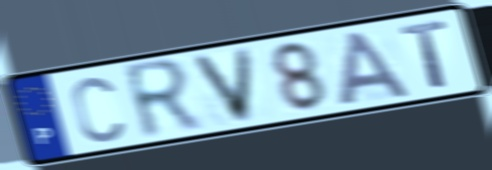8: (267, 40, 330, 114)
A: (337, 28, 415, 108)
C: (69, 74, 127, 146)
R: (119, 55, 207, 144)
T: (397, 17, 452, 91)
V: (188, 45, 257, 127)
